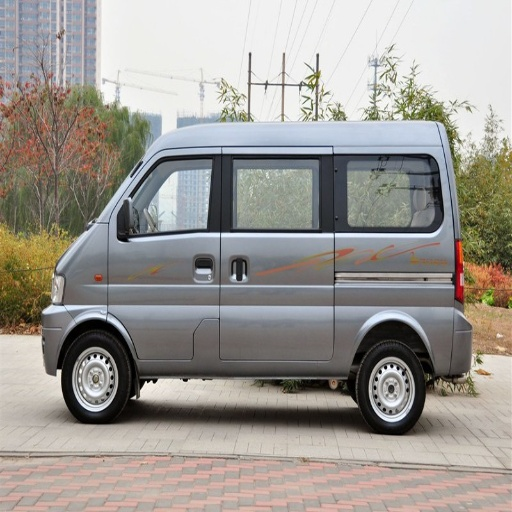back_left_door: (222, 150, 323, 349), (355, 150, 444, 229)
trunk: (271, 276, 462, 375)
